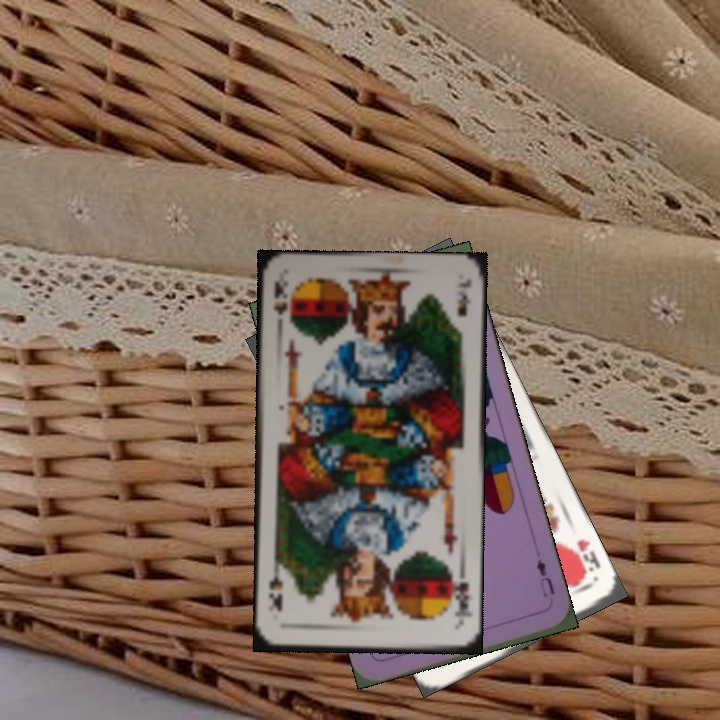EU: (532, 555, 558, 599)
HK: (562, 535, 603, 580)
SK: (447, 568, 474, 627), (269, 276, 291, 318)
